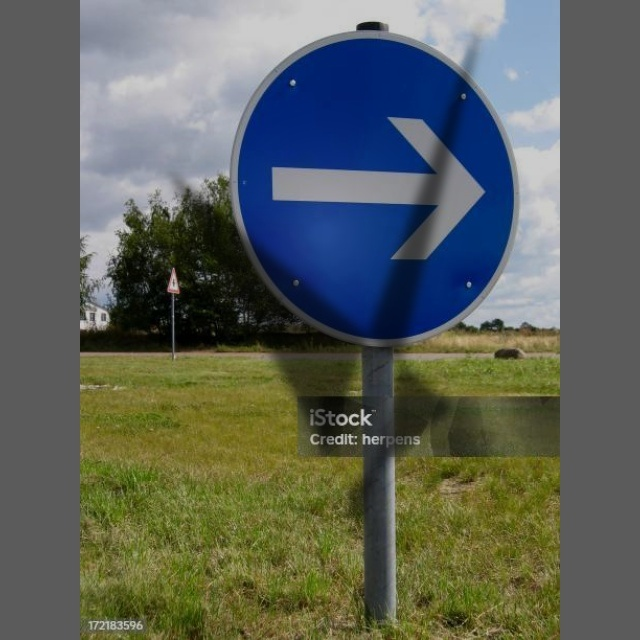Compulsory_Turn_Right: (233, 31, 524, 341)
